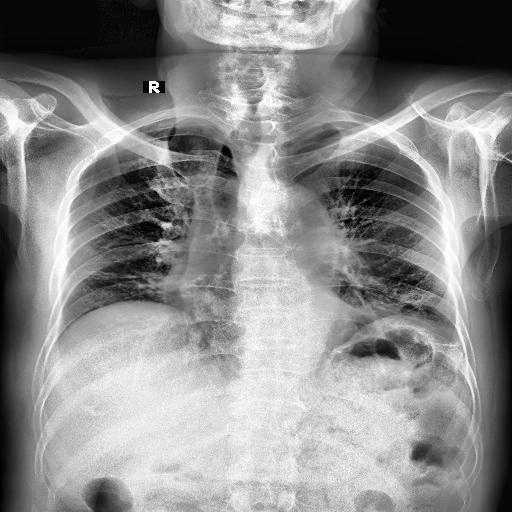0- Aortic enlargement: (241, 176, 341, 270), (255, 181, 341, 268), (245, 186, 341, 261)
9- Other lesion: (200, 118, 266, 232), (205, 110, 267, 216)
